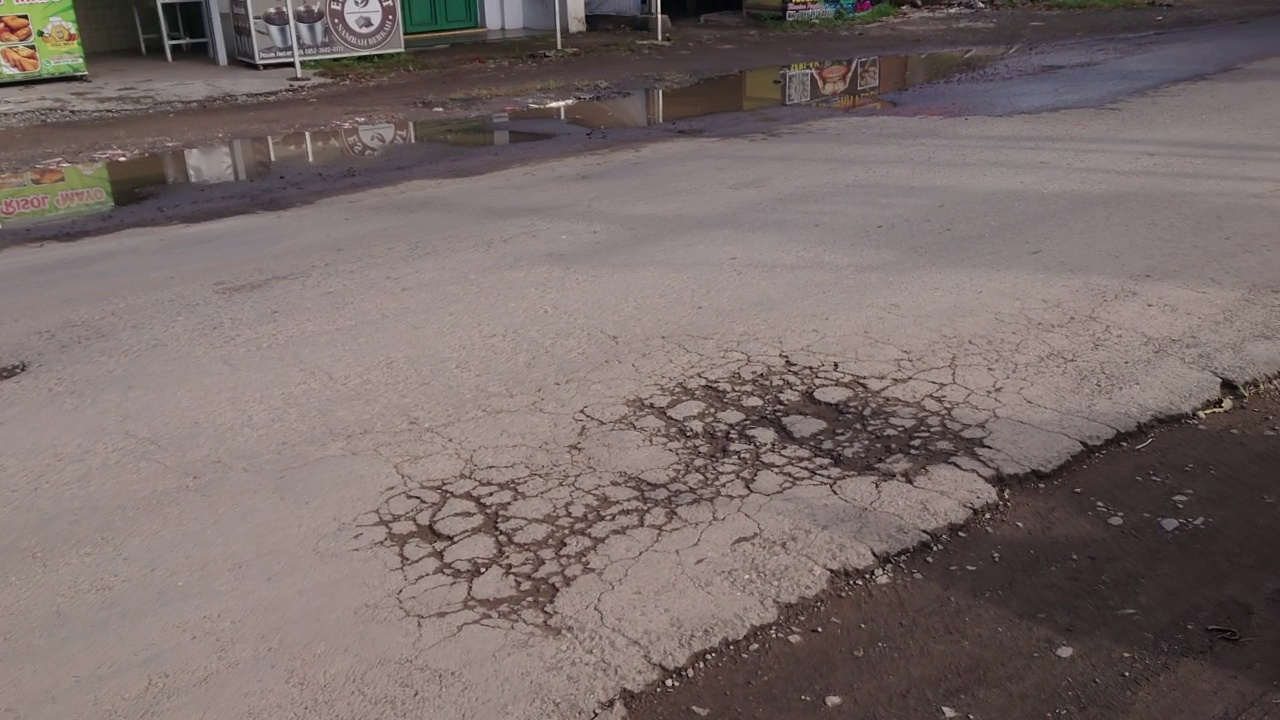Retak: (400, 374, 938, 622), (952, 278, 1142, 415)
